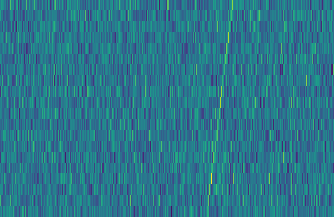signal: (203, 0, 238, 217)
